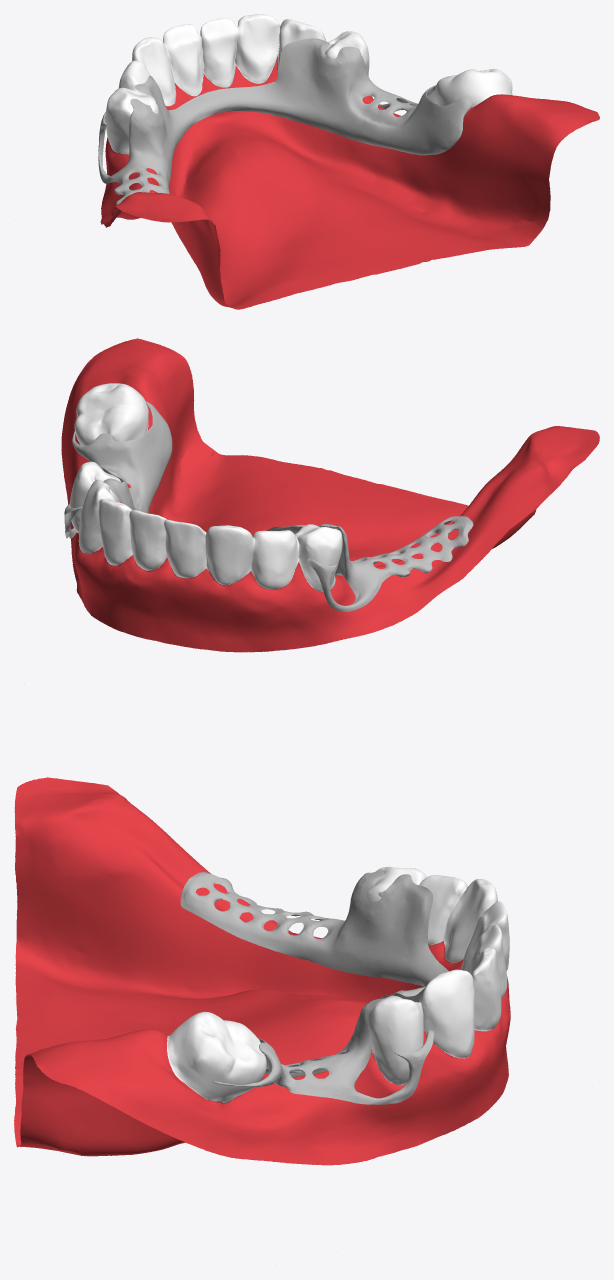
Rendered from 1756915700478-05_cast+teeth-draco.glb.
The picture shows the model from 3 angles, top to bottom: view 1: azimuth 30°, elevation 25°; view 2: azimuth 150°, elevation 25°; view 3: azimuth 270°, elevation 25°; orthographic projection. The views are drawn at different scales.
Parts seen in each view (by area): view 1: 05_teeth, 05_cast; view 2: 05_teeth, 05_cast; view 3: 05_teeth, 05_cast.
Part boxes in pixels (x1,y1,x2,y2): 05_teeth: (100,14,599,309); 05_cast: (98,38,472,204); 05_teeth: (61,338,599,652); 05_cast: (64,401,473,612); 05_teeth: (14,777,510,1165); 05_cast: (180,869,448,1104).
Size of the model in its own units: 200 by 68.24 by 166.
